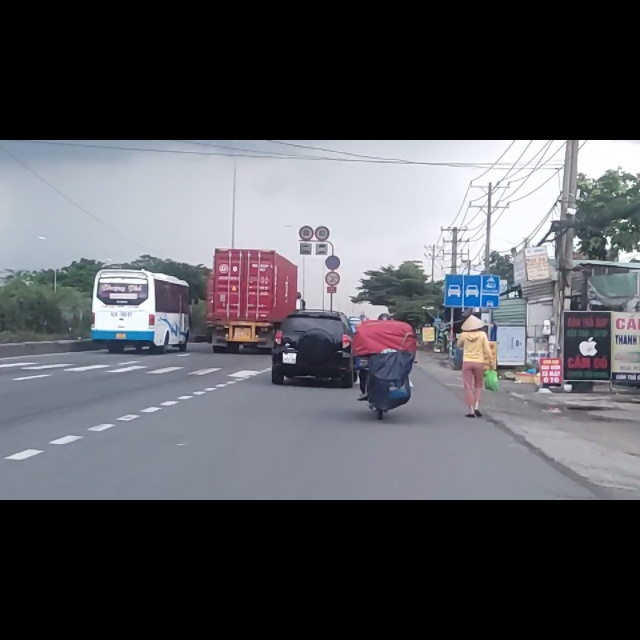bien_cam: (445, 238, 499, 297), (314, 151, 331, 180), (325, 204, 341, 231), (299, 152, 313, 179), (325, 235, 341, 258)
